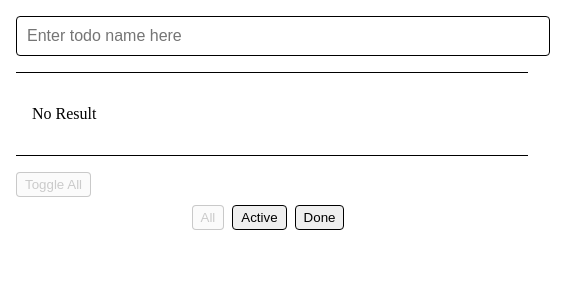
Test: TodoList › should filter DONE status when user click on Done button
Type "123" into the field with test id "input-add-todo" at (283,36), box [16,16,550,56]
Press Enter in the field with test id "input-add-todo", box [16,16,550,56]
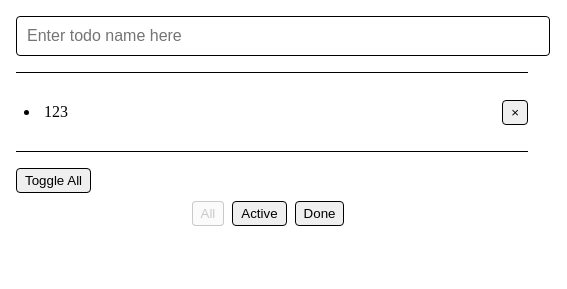
Type "321" into the field with test id "input-add-todo" at (283,36), box [16,16,550,56]
Press Enter in the field with test id "input-add-todo", box [16,16,550,56]
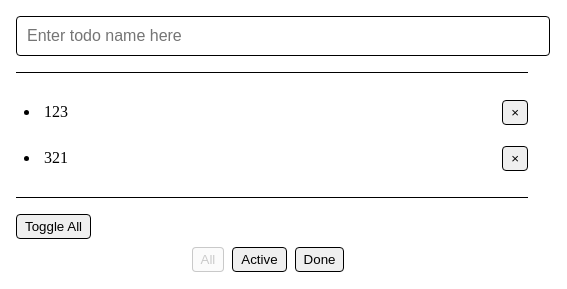
Click the button with test id "active-button" at (259,260), box [232,247,287,272]
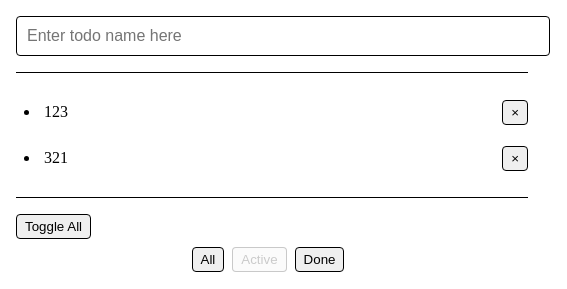
Click the button with test id "toggle-all" at (54,226), box [16,214,91,239]
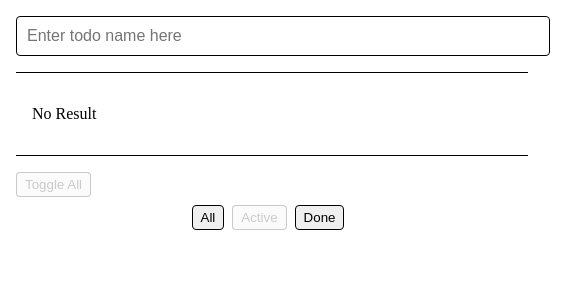
Expected: the text with test id "no-result" reads "No Result", [32,105,96,122]
Click the button with test id "done-button" at (320,218), box [295,205,344,230]
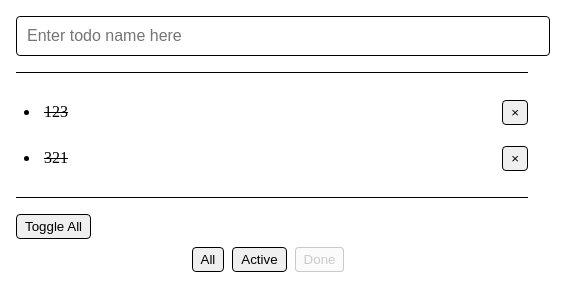
Expected: the element with test id "todo-item" has attribute data-status="DONE", [40,93,528,131]
Click the text "123" at (56,112), box [44,103,68,120]
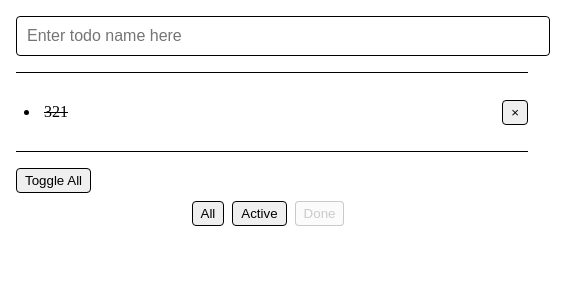
Expected: the number of elements with test id "todo-item" is 1, [40,93,528,131]
